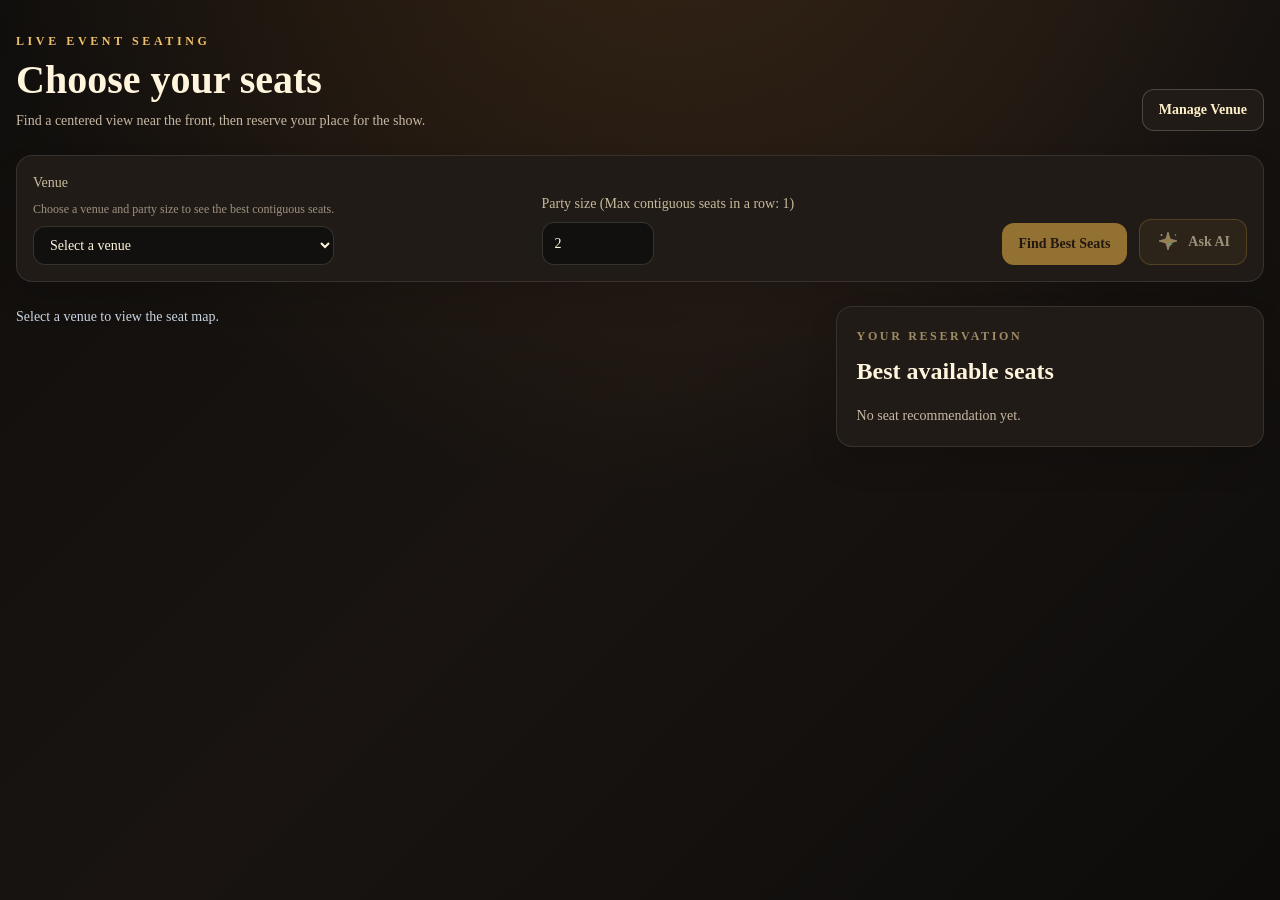
Scenario: App › prevents duplicate submissions while a booking is in flight
This screenshot has width=1280, height=900.
Select "Main Hall" in the dropdown labelled "Venue" at (184, 245), box [33,226,334,265]
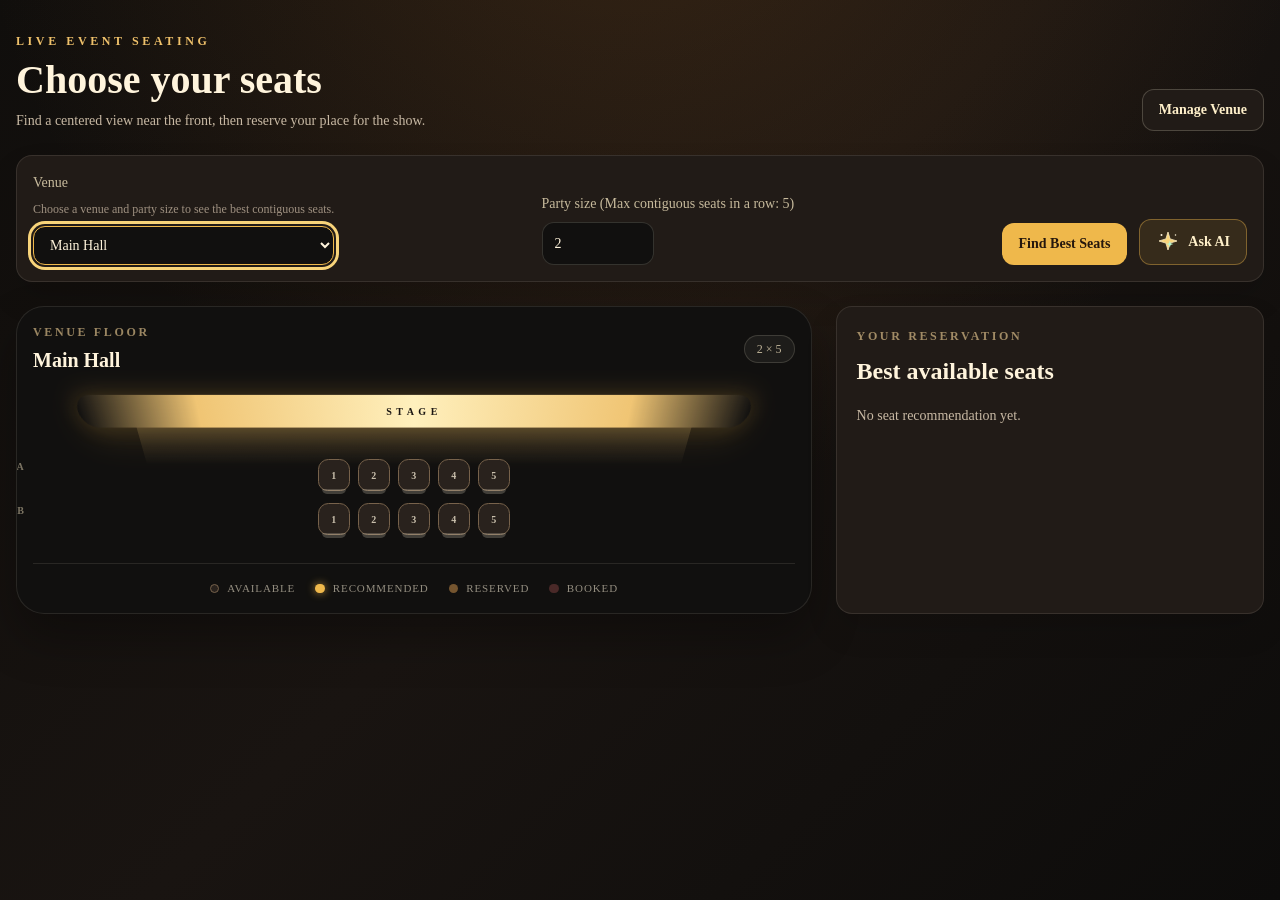
Click the button "Find Best Seats".
click(1064, 244)  # box [1002,223,1127,265]
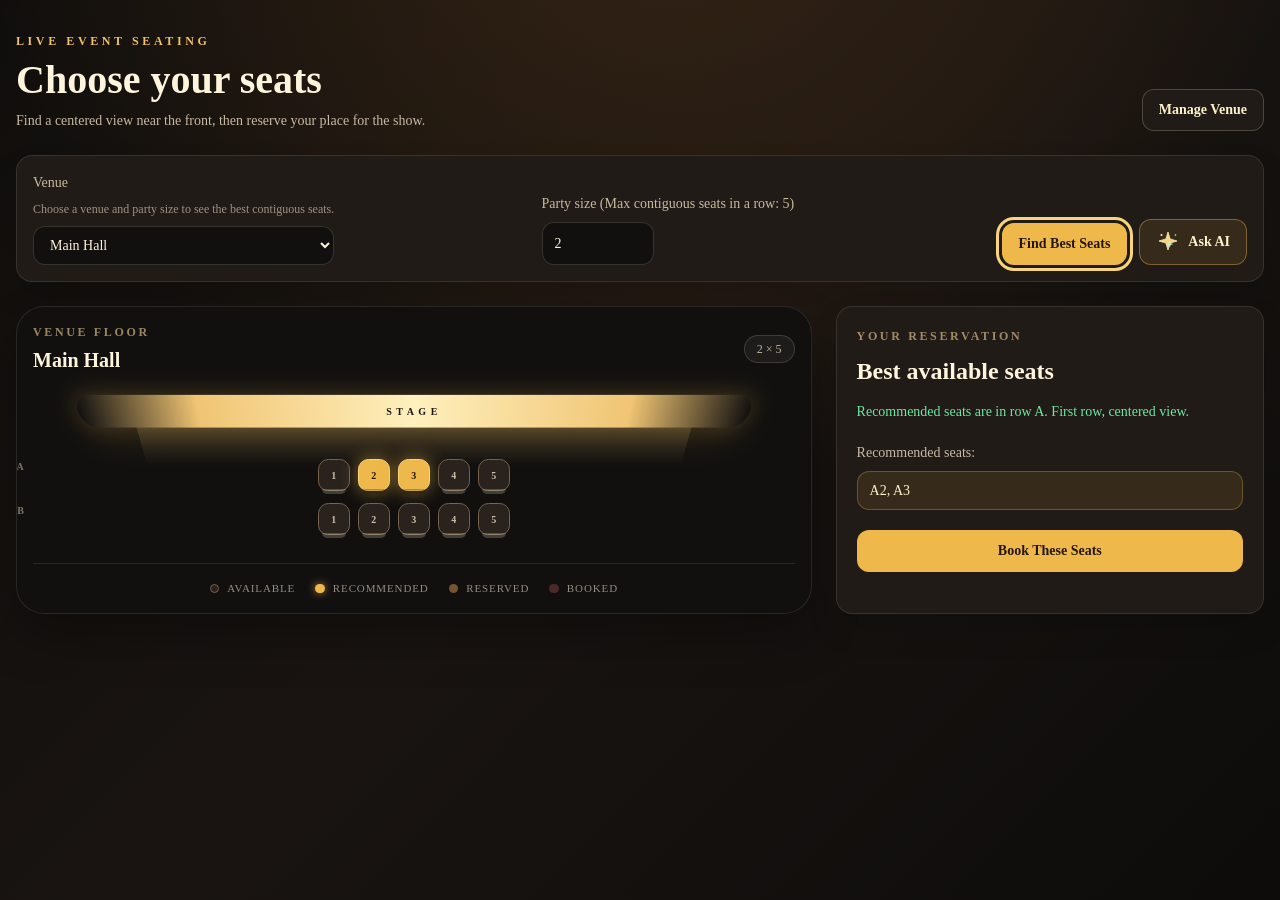
Expected: the text "A2, A3" is shown, [857,471,1243,510]
Click the button "Book These Seats".
click(1050, 551)  # box [857,530,1243,572]
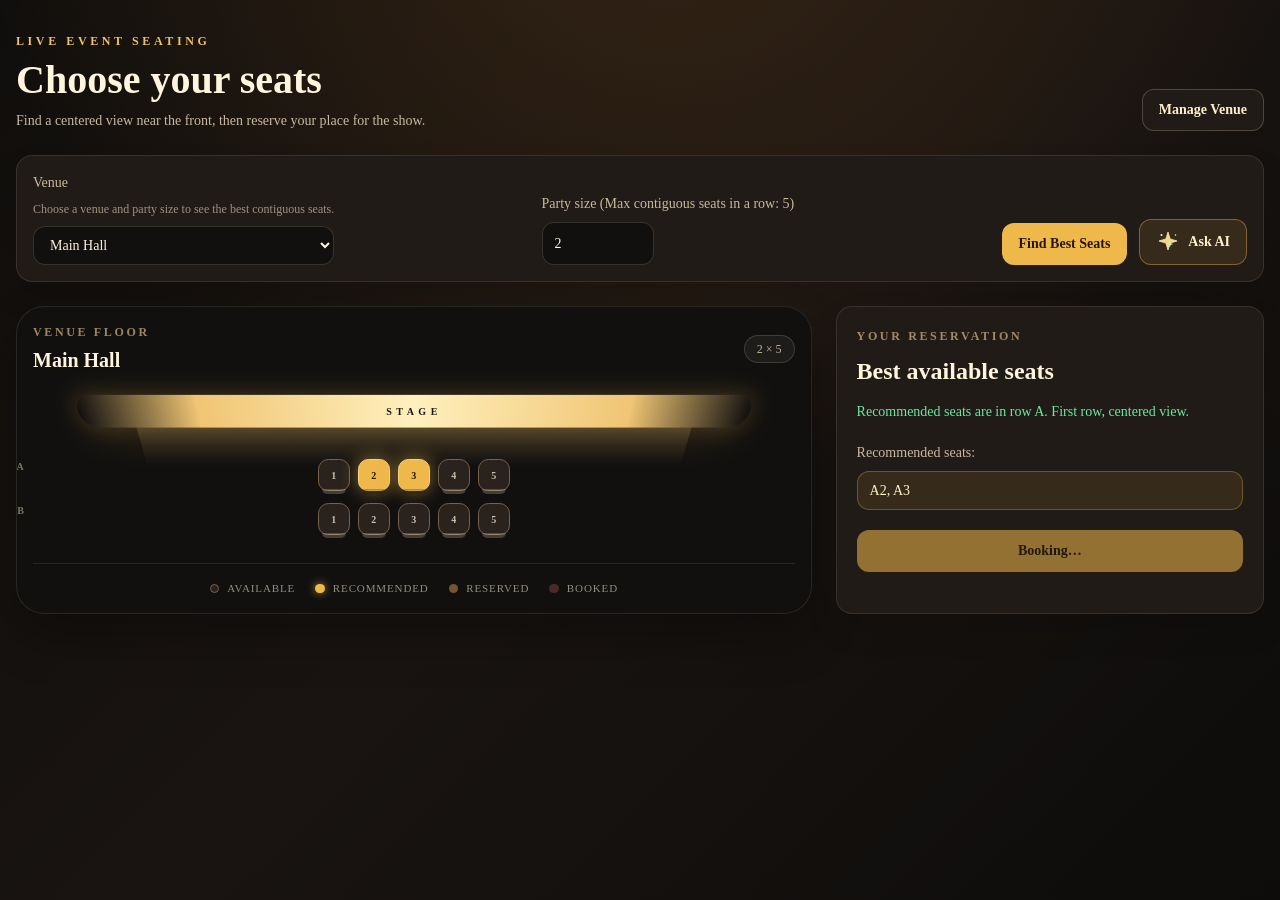
Expected: the button named "book these seats" is disabled
Click the button named "book these seats".
click(1050, 551)  # box [857,530,1243,572]
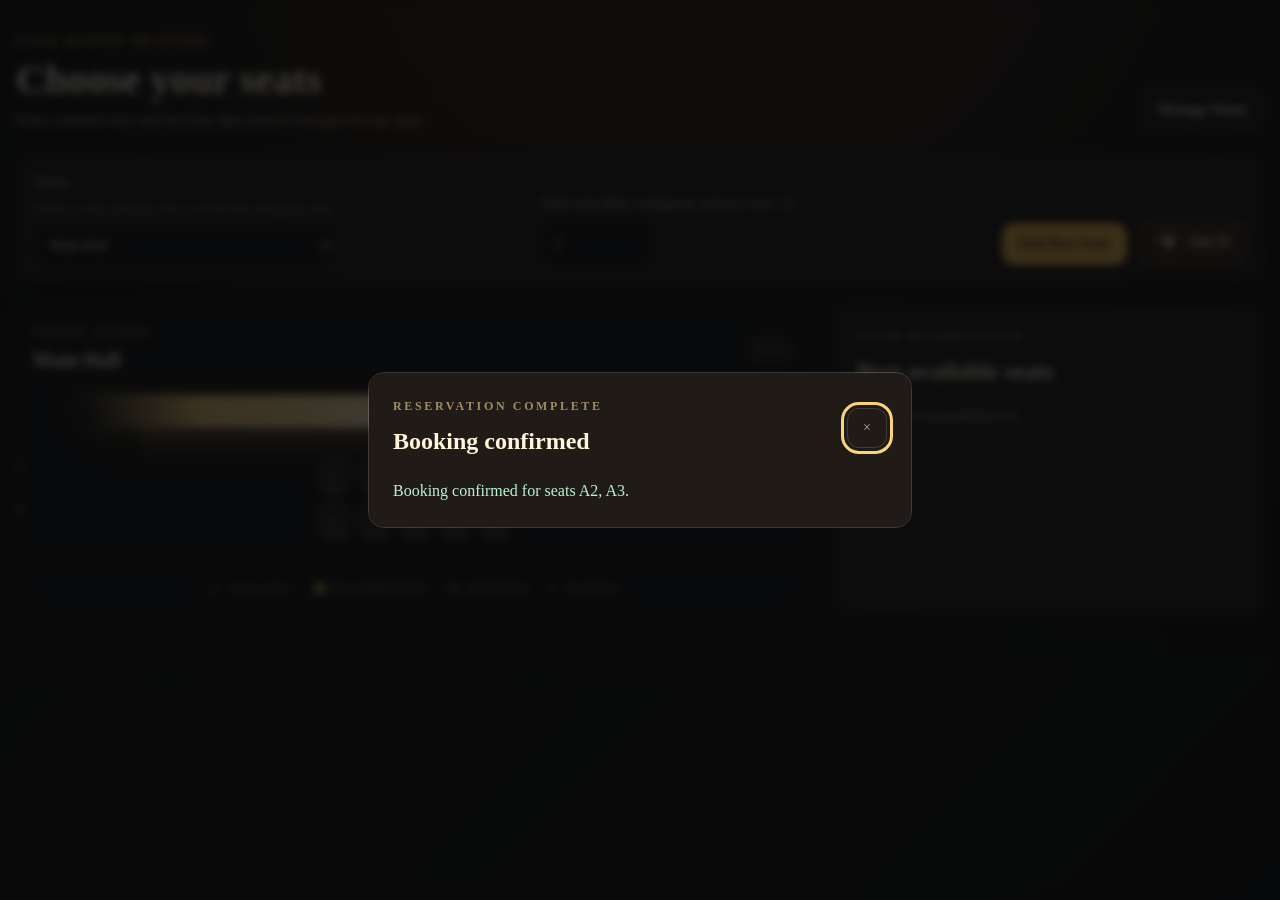
Expected: the dialog "Booking confirmed" is shown, [368,372,912,528]
